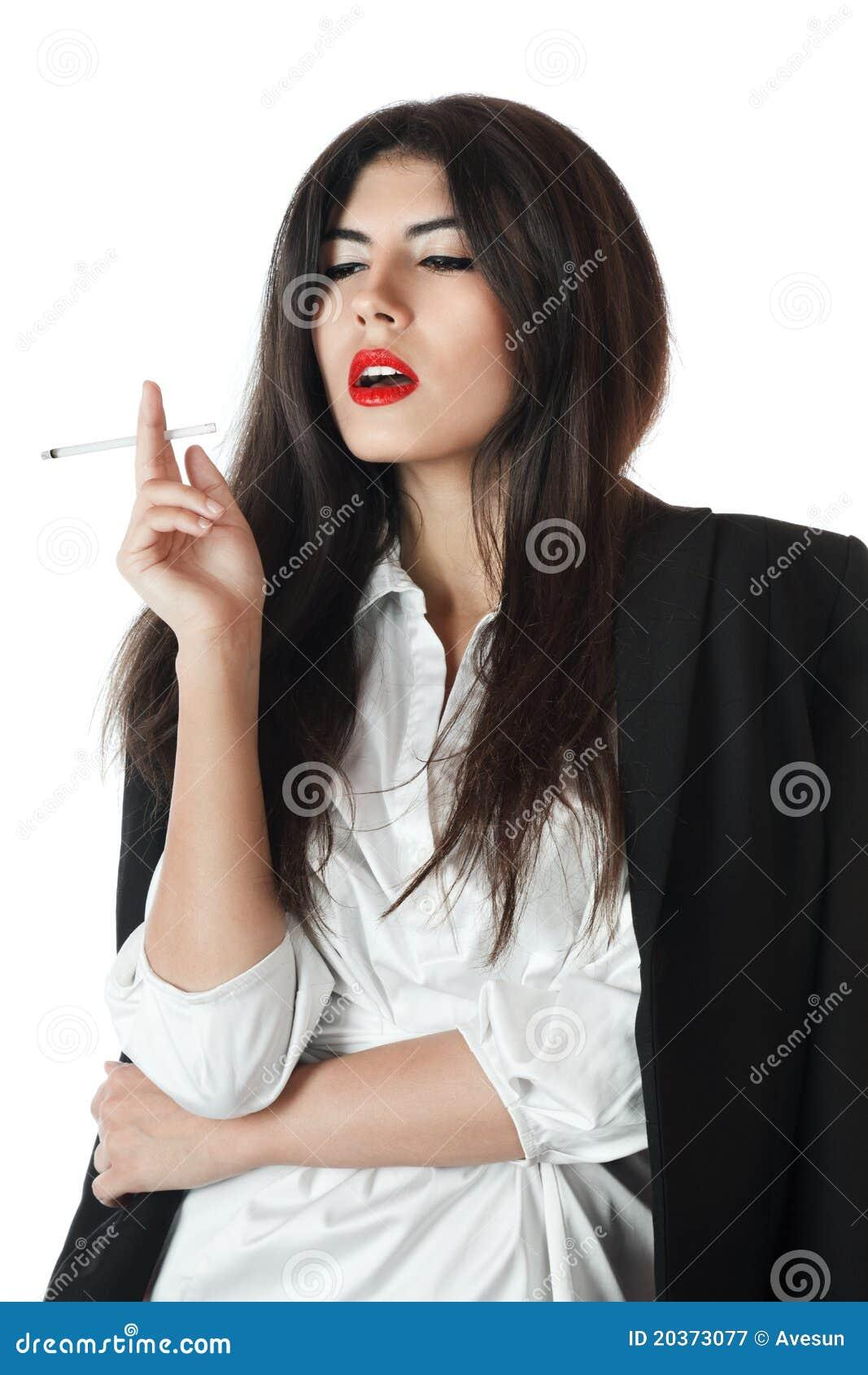cigarette: (41, 435, 136, 459)
